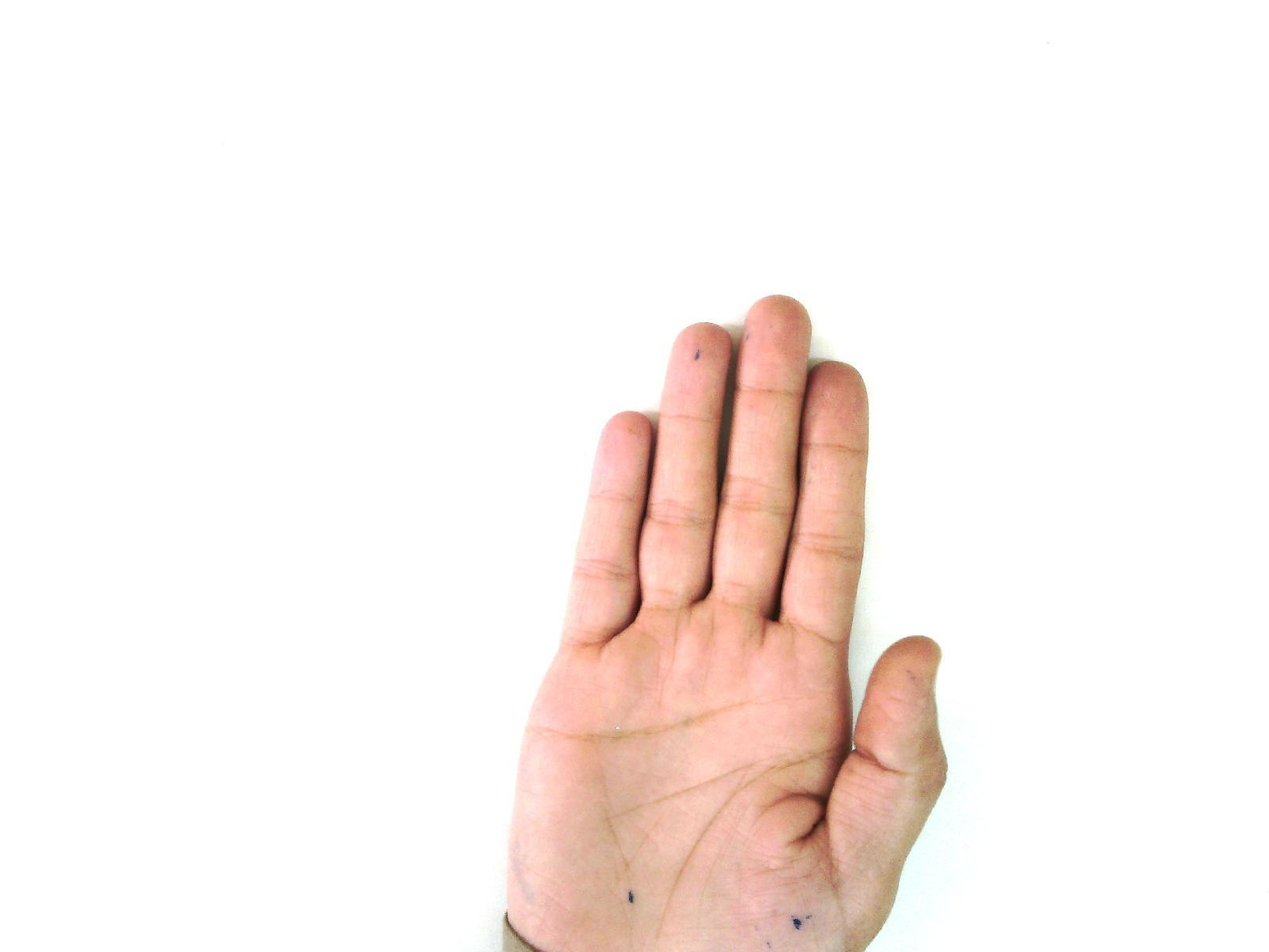open_palm: (500, 294, 951, 951)
